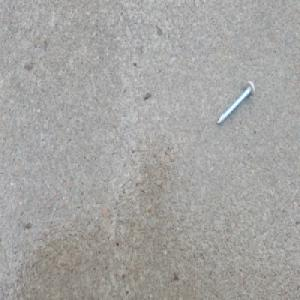Nail: (216, 78, 255, 126)
